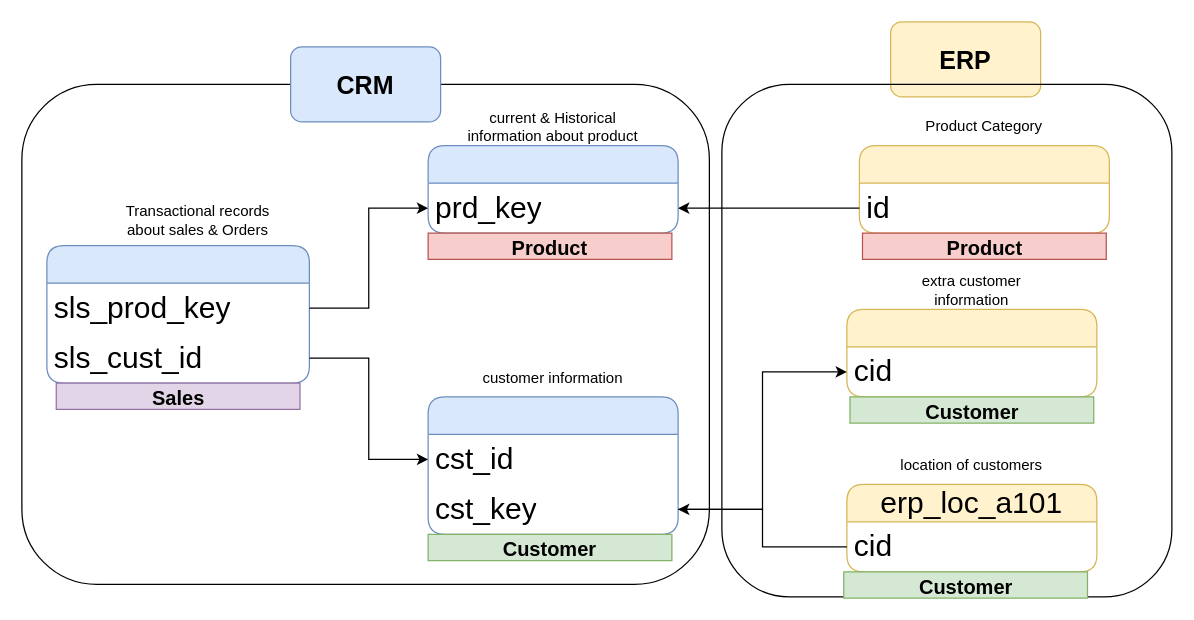
This 1194x620 diagram has some shape labels left out. Each missing label, with the box of its shape:
crm_cust_info: (427, 396, 678, 534)
crm_prd_info: (427, 144, 678, 233)
crm_sales_details: (46, 244, 309, 383)
erp_cust_az12: (846, 308, 1097, 397)
erp_px_cat_g1v2: (858, 144, 1109, 233)
